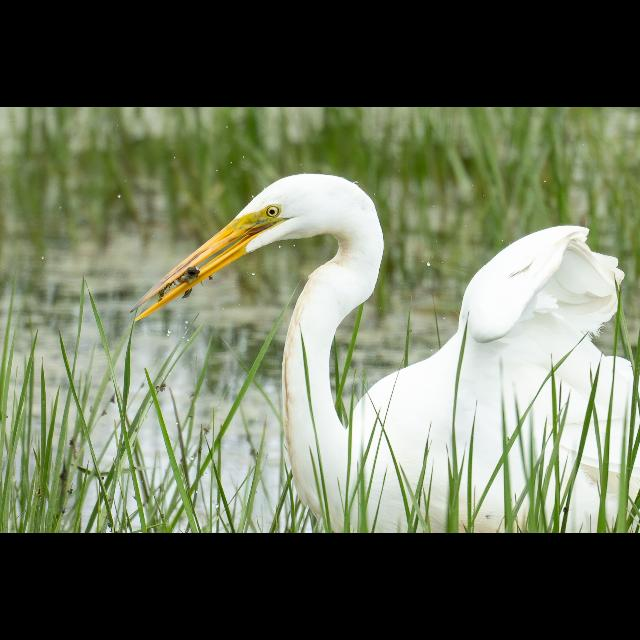egret: (128, 165, 640, 533)
